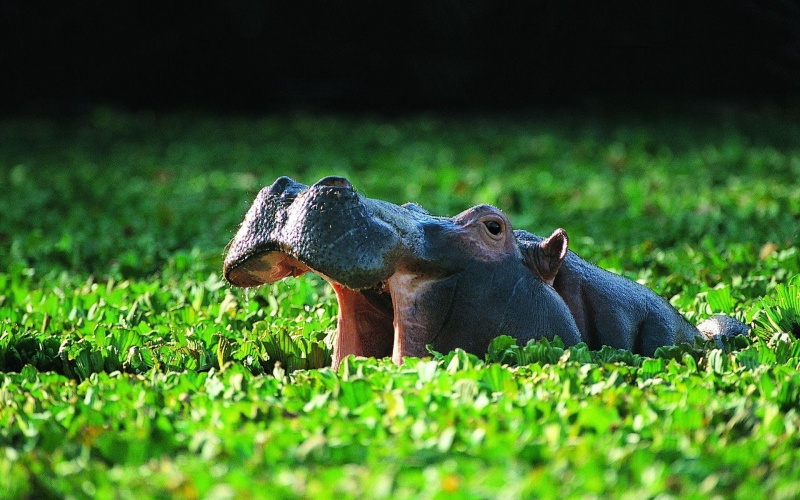hipopotamo: (217, 173, 757, 394)
